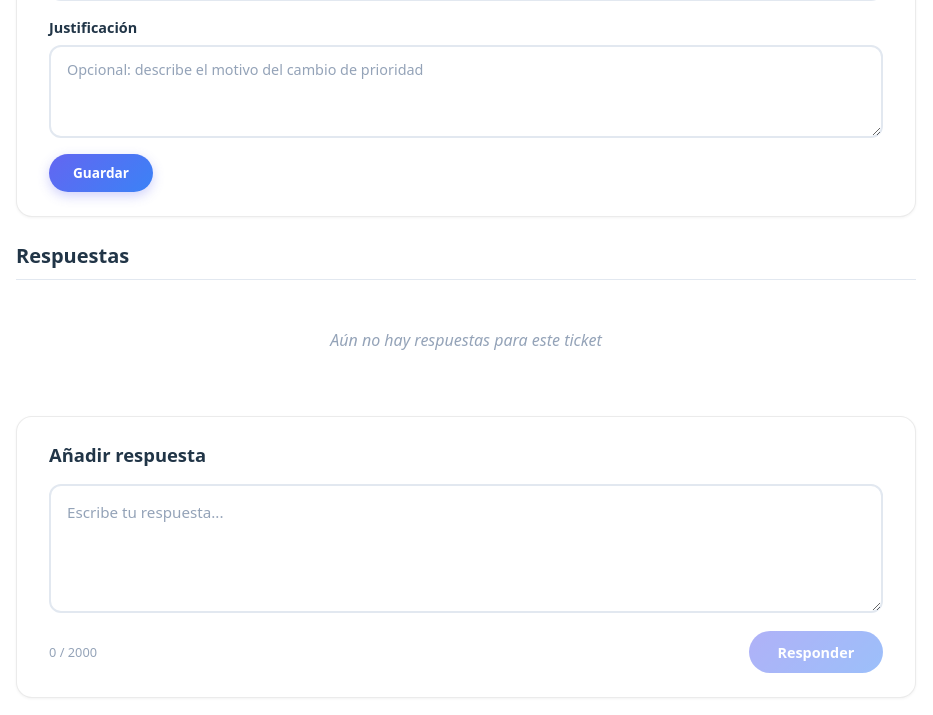
TicketDetail — HU-3.2: Formulario de respuesta (solo ADMIN, ticket no CLOSED) › límite de 2000 caracteres › actualiza el contador al escribir texto
This screenshot has width=933, height=715.
(page scrolled)
Expected: the text "0 / 2000" is shown, [49, 643, 97, 662]
In the text box with test id "response-textarea": (466, 549) [49, 484, 883, 614], type "Hola"
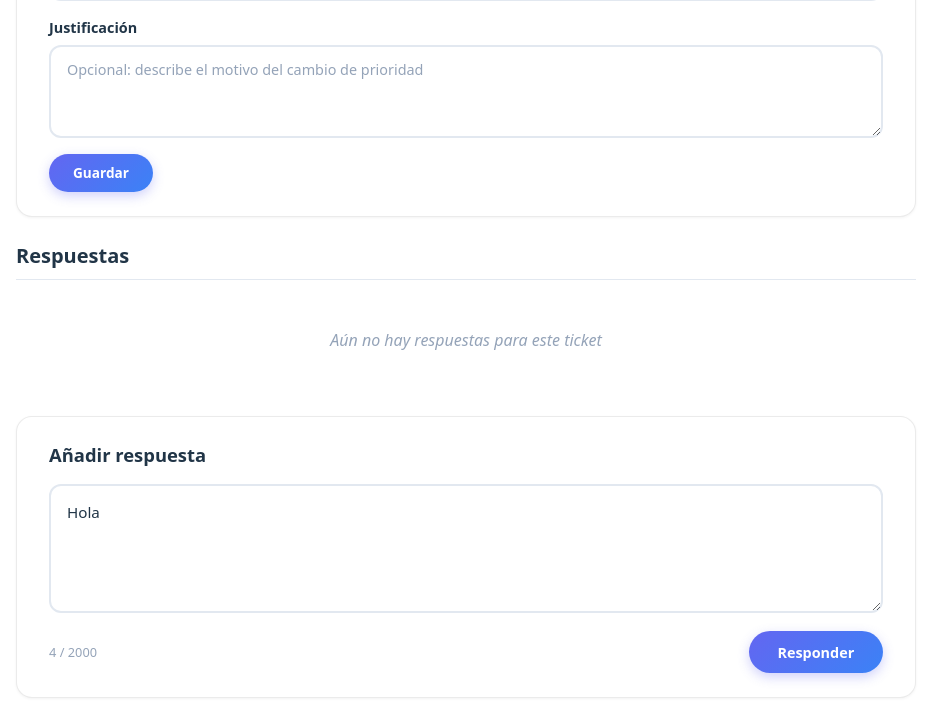
Expected: the text "4 / 2000" is shown, [49, 643, 97, 662]
